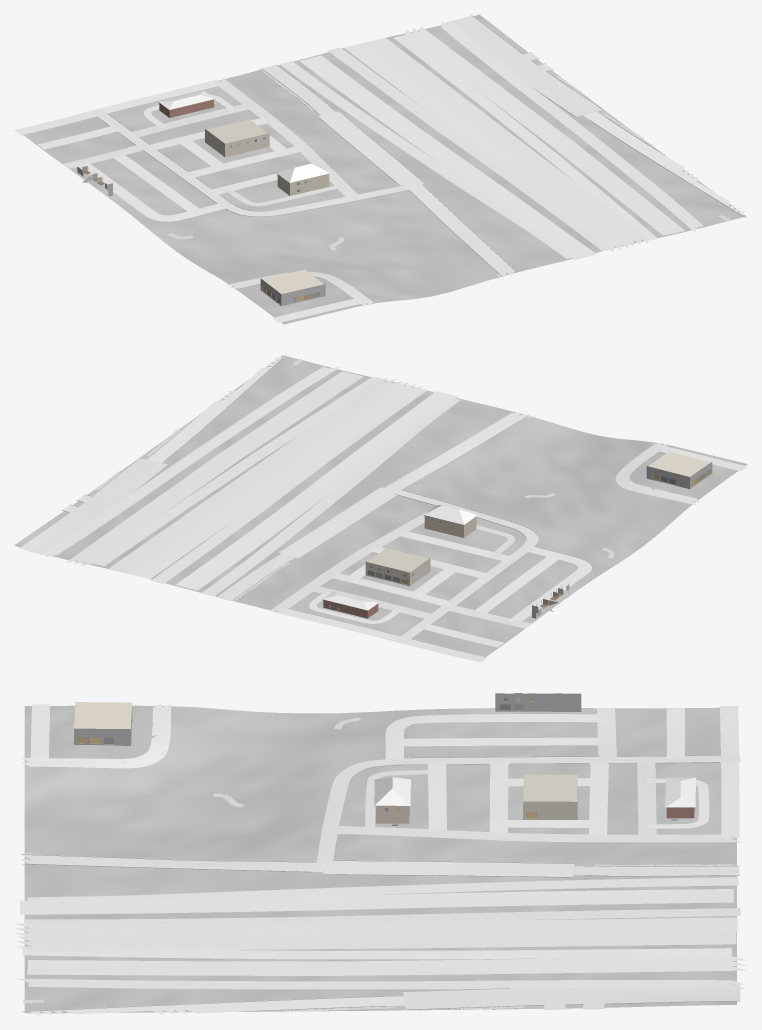
3 renders of one model, top to bottom at view 1: azimuth 30°, elevation 25°; view 2: azimuth 150°, elevation 25°; view 3: azimuth 270°, elevation 25°, orthographic. The views are drawn at different scales.
Visible parts, largest first — view 1: ground, asphalt, concrete, mark_w, mark_y, curb, roof_flat, wall_com, roof, walk, wall_stucco; view 2: ground, asphalt, concrete, mark_w, mark_y, roof_flat, curb, wall_com, roof, wall_stucco, walk; view 3: ground, asphalt, concrete, mark_w, curb, mark_y, wall_com, roof_flat, roof, walk, wall_stucco.
Boxes of the visible parts, <box> form: ground: <box>23,14,746,324</box>; asphalt: <box>262,15,744,276</box>; concrete: <box>14,78,408,322</box>; mark_w: <box>263,16,708,274</box>; mark_y: <box>276,23,743,271</box>; curb: <box>97,15,745,278</box>; roof_flat: <box>206,119,323,293</box>; wall_com: <box>106,129,325,306</box>; roof: <box>158,90,329,182</box>; walk: <box>167,69,730,277</box>; wall_stucco: <box>277,174,329,195</box>; ground: <box>14,355,747,656</box>; asphalt: <box>19,357,528,600</box>; concrete: <box>269,442,747,662</box>; mark_w: <box>20,368,527,600</box>; mark_y: <box>46,355,511,597</box>; roof_flat: <box>367,452,710,572</box>; curb: <box>19,354,539,638</box>; wall_com: <box>365,462,712,618</box>; roof: <box>322,505,477,610</box>; wall_stucco: <box>424,515,476,537</box>; walk: <box>96,358,614,600</box>; ground: <box>24,705,736,1013</box>; asphalt: <box>15,855,747,1015</box>; concrete: <box>21,703,741,862</box>; mark_w: <box>17,855,738,1011</box>; curb: <box>21,755,739,1011</box>; mark_y: <box>20,863,741,1012</box>; wall_com: <box>74,693,581,819</box>; roof_flat: <box>74,702,577,801</box>; roof: <box>374,777,695,807</box>; walk: <box>23,717,738,1012</box>; wall_stucco: <box>375,806,409,823</box>.
Size of the model in its own units: 255 by 14.26 by 258.
